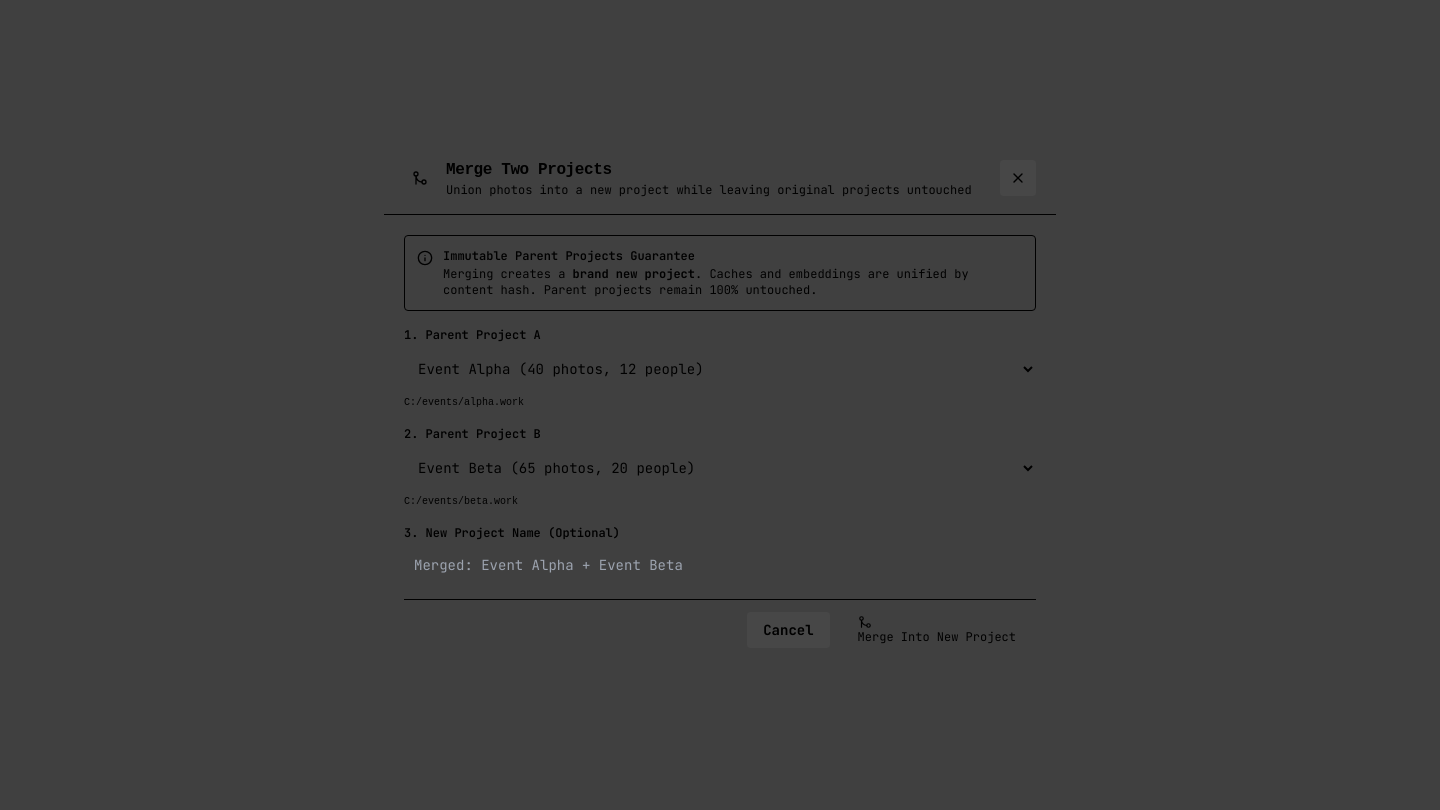
MergeProjectsModal Component (Phase V2-4) › displays flagged conflicts for user review if present
This screenshot has width=1440, height=810.
Click the button with test id "btn-confirm-merge".
click(937, 630)  # box [838, 612, 1036, 648]
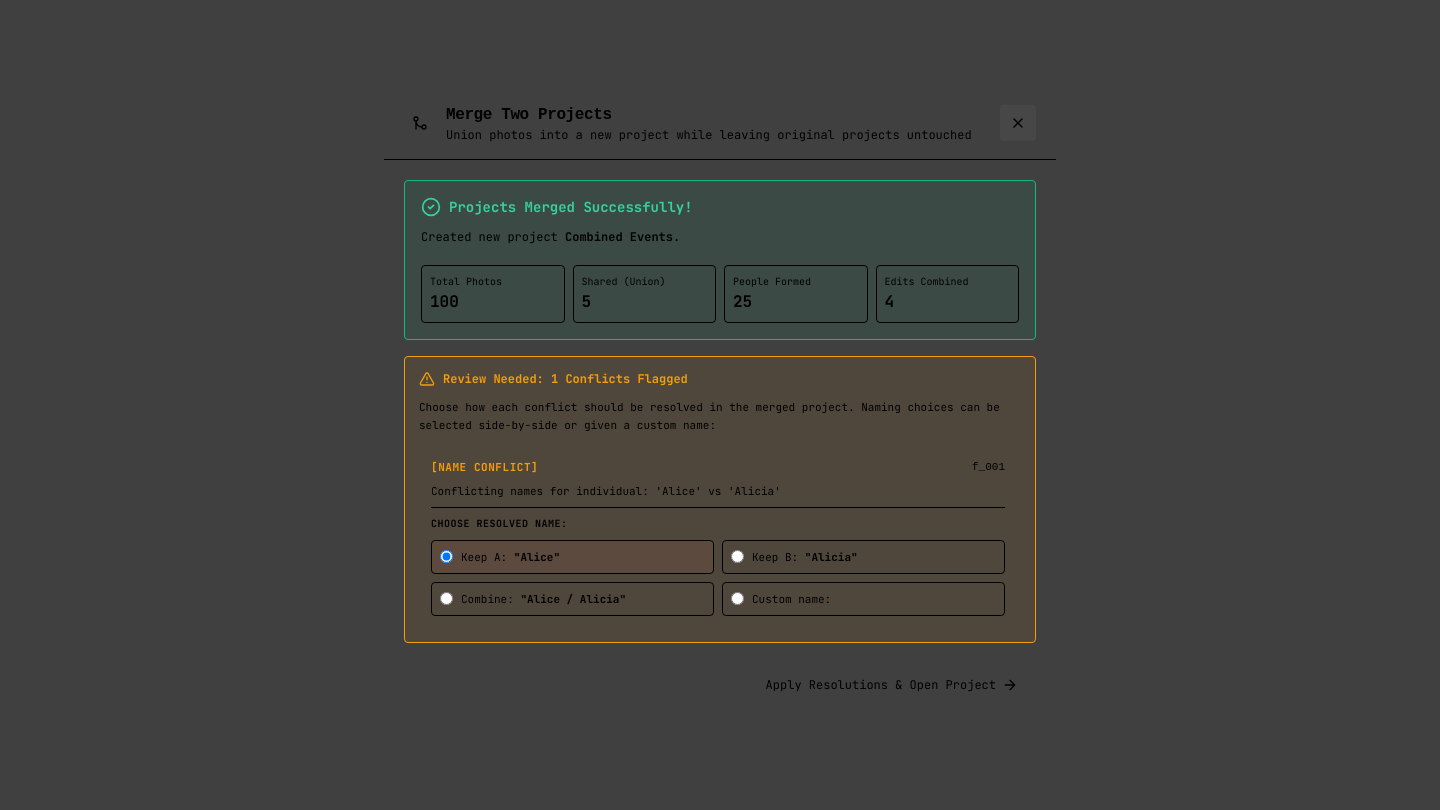
Result: the element with test id "merge-conflicts-section" is shown at [404, 356, 1036, 643]
Result: the text "Review Needed: 1 Conflicts Flagged" is shown at [443, 371, 688, 387]
Result: the text "Conflicting names for individual: 'Alice' vs 'Alicia'" is shown at [431, 484, 781, 498]
